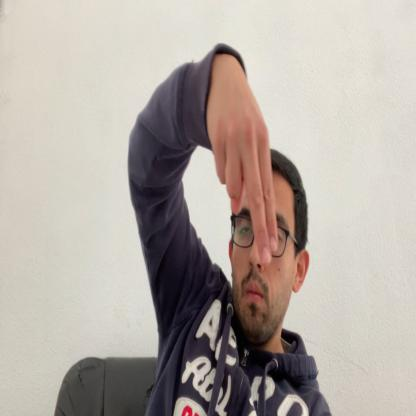N: (207, 56, 278, 264)
